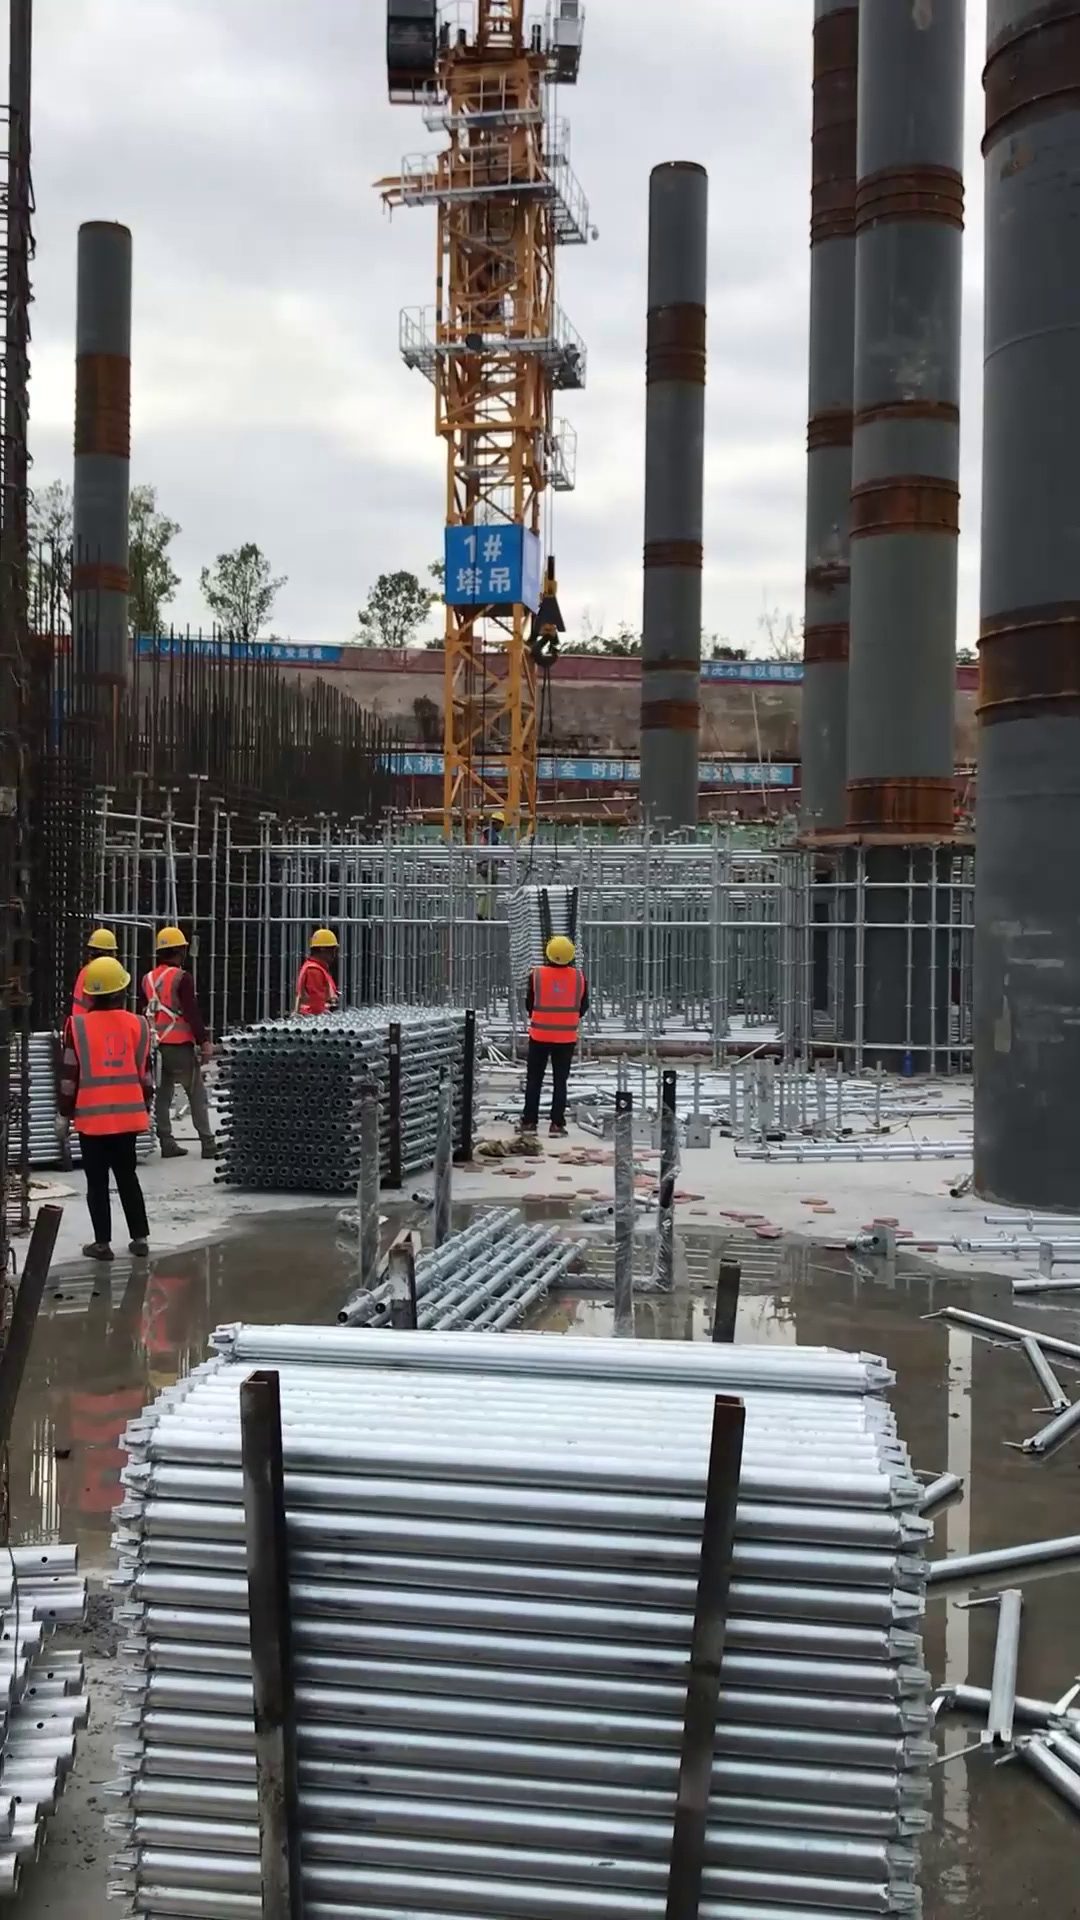helmet: (72, 953, 137, 1004), (300, 921, 343, 958), (150, 926, 196, 958), (542, 932, 578, 971), (82, 925, 121, 958)
hook: (526, 553, 580, 670)
person: (50, 953, 183, 1274), (136, 917, 229, 1174), (515, 935, 596, 1144), (58, 918, 133, 1028), (283, 914, 350, 1035)
scaffold: (92, 1303, 961, 1920), (211, 987, 504, 1206)
slogan: (152, 625, 342, 670), (695, 652, 810, 687), (528, 756, 645, 782), (698, 756, 801, 784)
vest: (61, 1004, 155, 1142), (137, 957, 200, 1058), (525, 963, 590, 1051), (290, 958, 342, 1017), (60, 960, 93, 1036)
